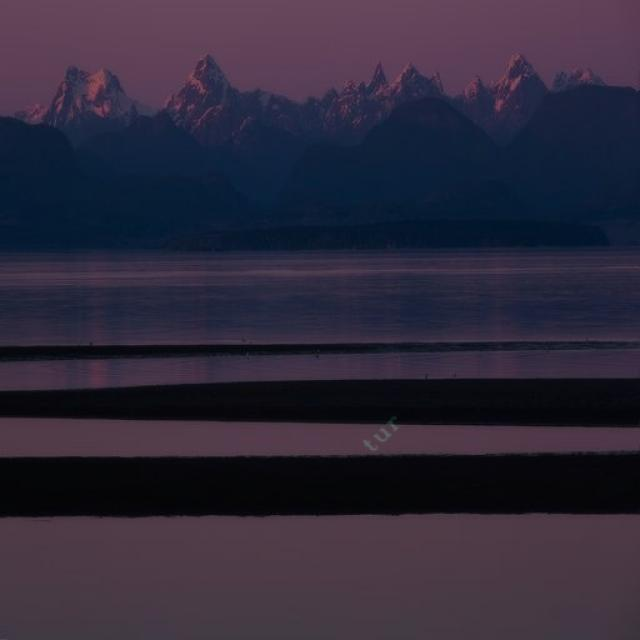watermark: (364, 403, 401, 458)
